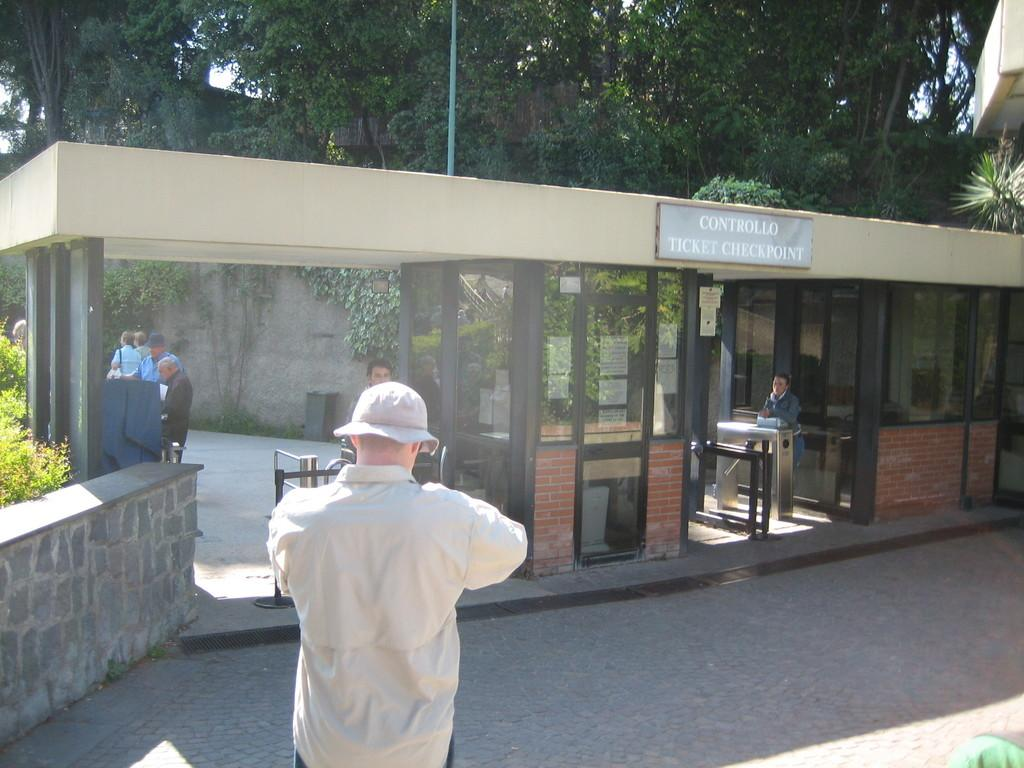Hat: (332, 378, 440, 454)
